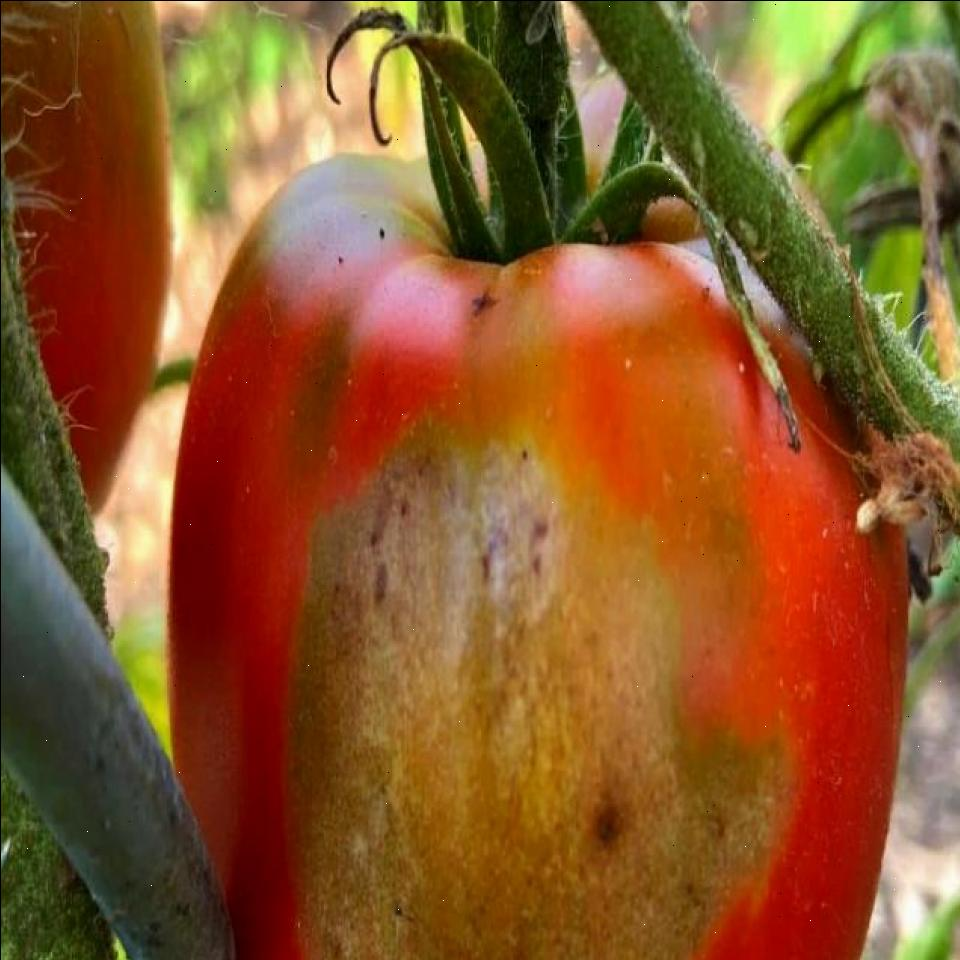Sunscald: (356, 237, 568, 617)
